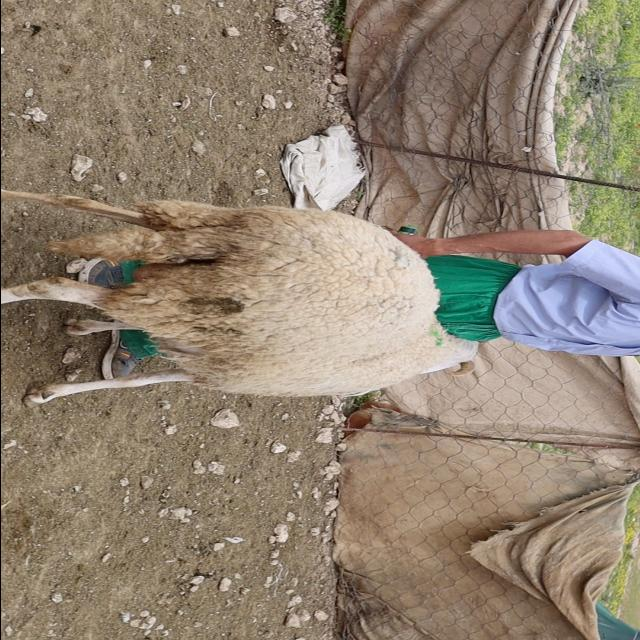Score_5: (1, 190, 477, 406)
